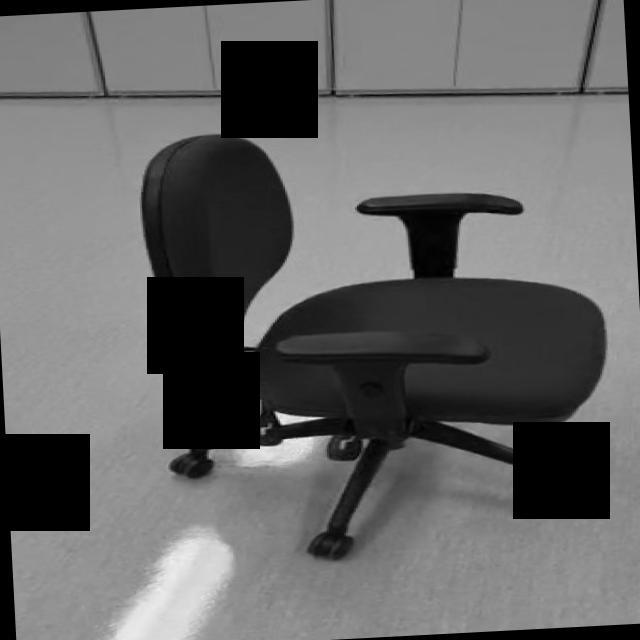chair: (136, 112, 616, 568)
